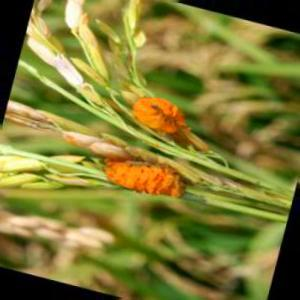Leaf_Scald: (108, 155, 180, 200), (138, 95, 189, 139)
